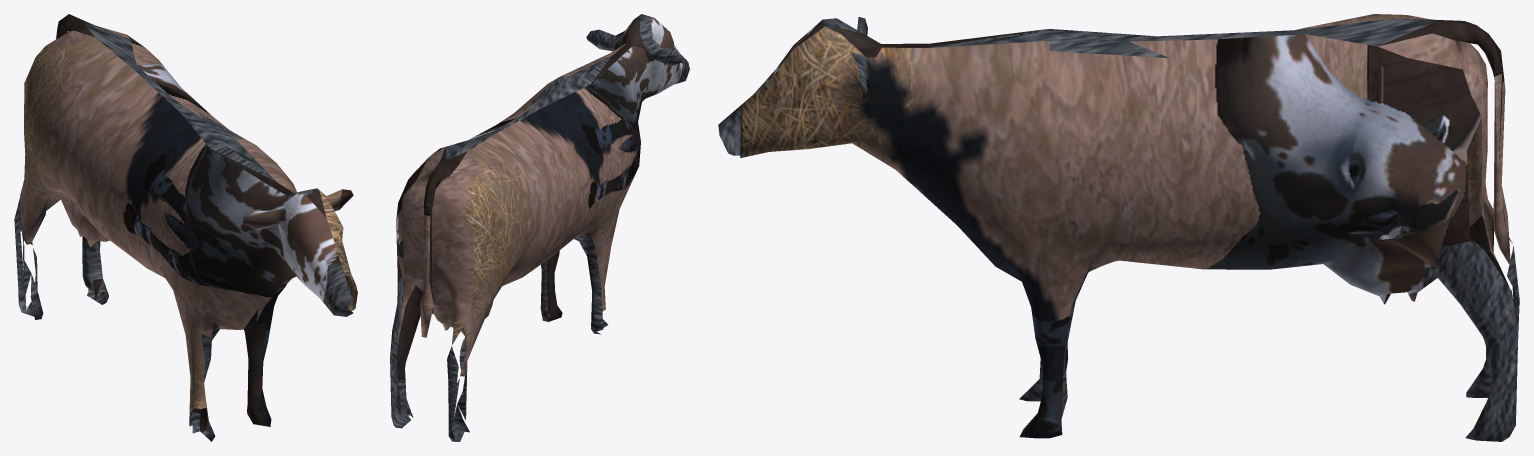
File: Cow2.fbx
The picture shows the model from 3 angles, left to right: view 1: azimuth 30°, elevation 25°; view 2: azimuth 150°, elevation 25°; view 3: azimuth 270°, elevation 25°; orthographic projection. The views are drawn at different scales.
Parts seen in each view (by area): view 1: Cow.001; view 2: Cow.001; view 3: Cow.001.
Boxes of the visible parts, x1,y1,x2,y2 form: Cow.001: [14, 14, 357, 441]; Cow.001: [390, 14, 689, 441]; Cow.001: [718, 14, 1519, 441].
Size of the model in its own units: 218 by 486 by 885.
